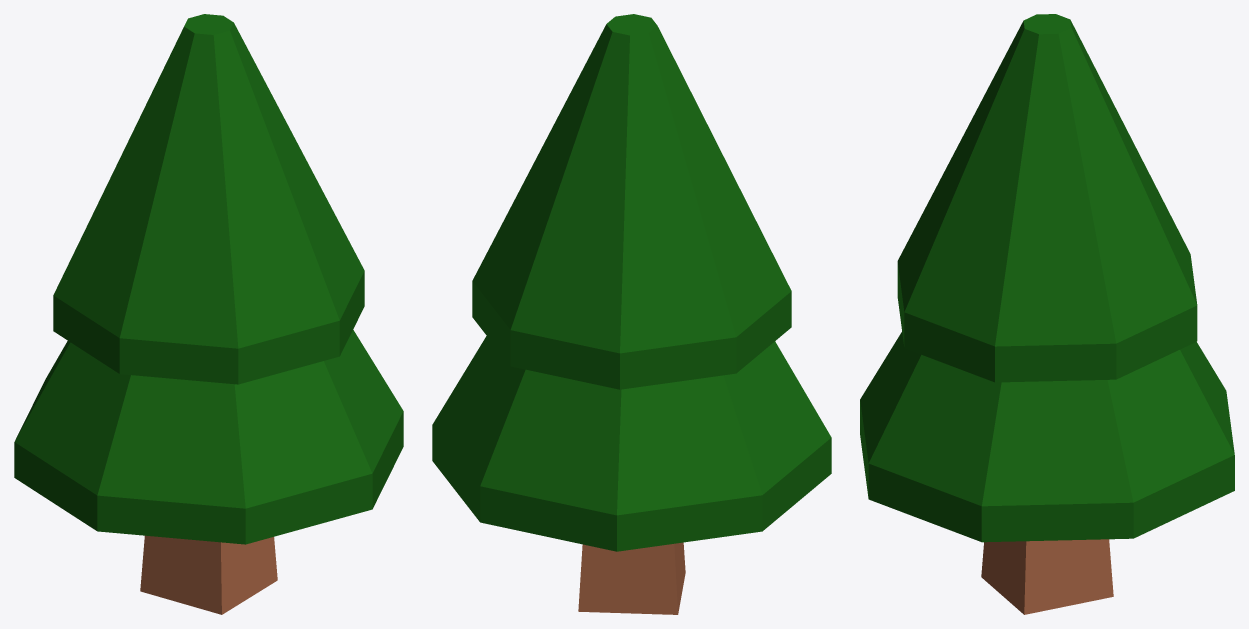
File: TreeSingleCornerDownWards.obj
The picture shows the model from 3 angles, left to right: view 1: azimuth 30°, elevation 25°; view 2: azimuth 150°, elevation 25°; view 3: azimuth 270°, elevation 25°; orthographic projection.
Parts seen in each view (by area): view 1: tree.003_tree.015; view 2: tree.003_tree.015; view 3: tree.003_tree.015.
Boxes of the visible parts, box(x1,y1,x2,y2) form: tree.003_tree.015: box(14, 14, 403, 614); tree.003_tree.015: box(432, 14, 831, 614); tree.003_tree.015: box(860, 14, 1234, 614).
Size of the model in its own units: 0.6235 by 1.03 by 0.6235.
